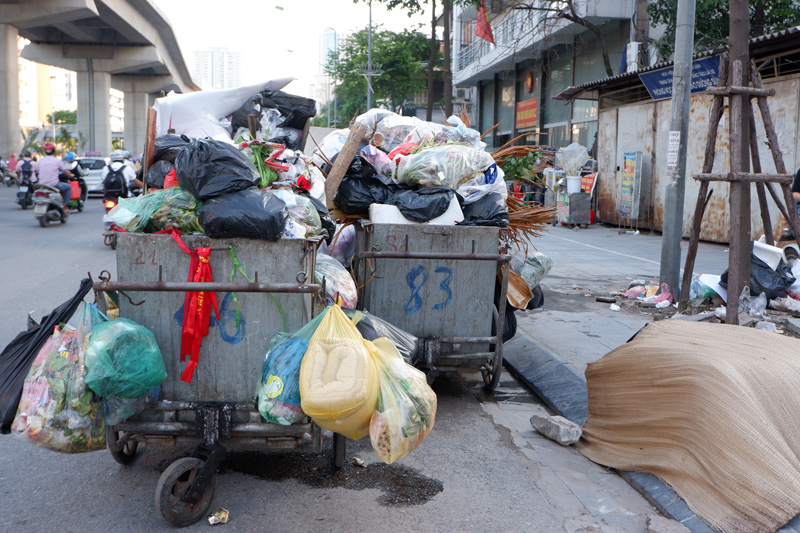plastic bag: (2, 76, 543, 468)
